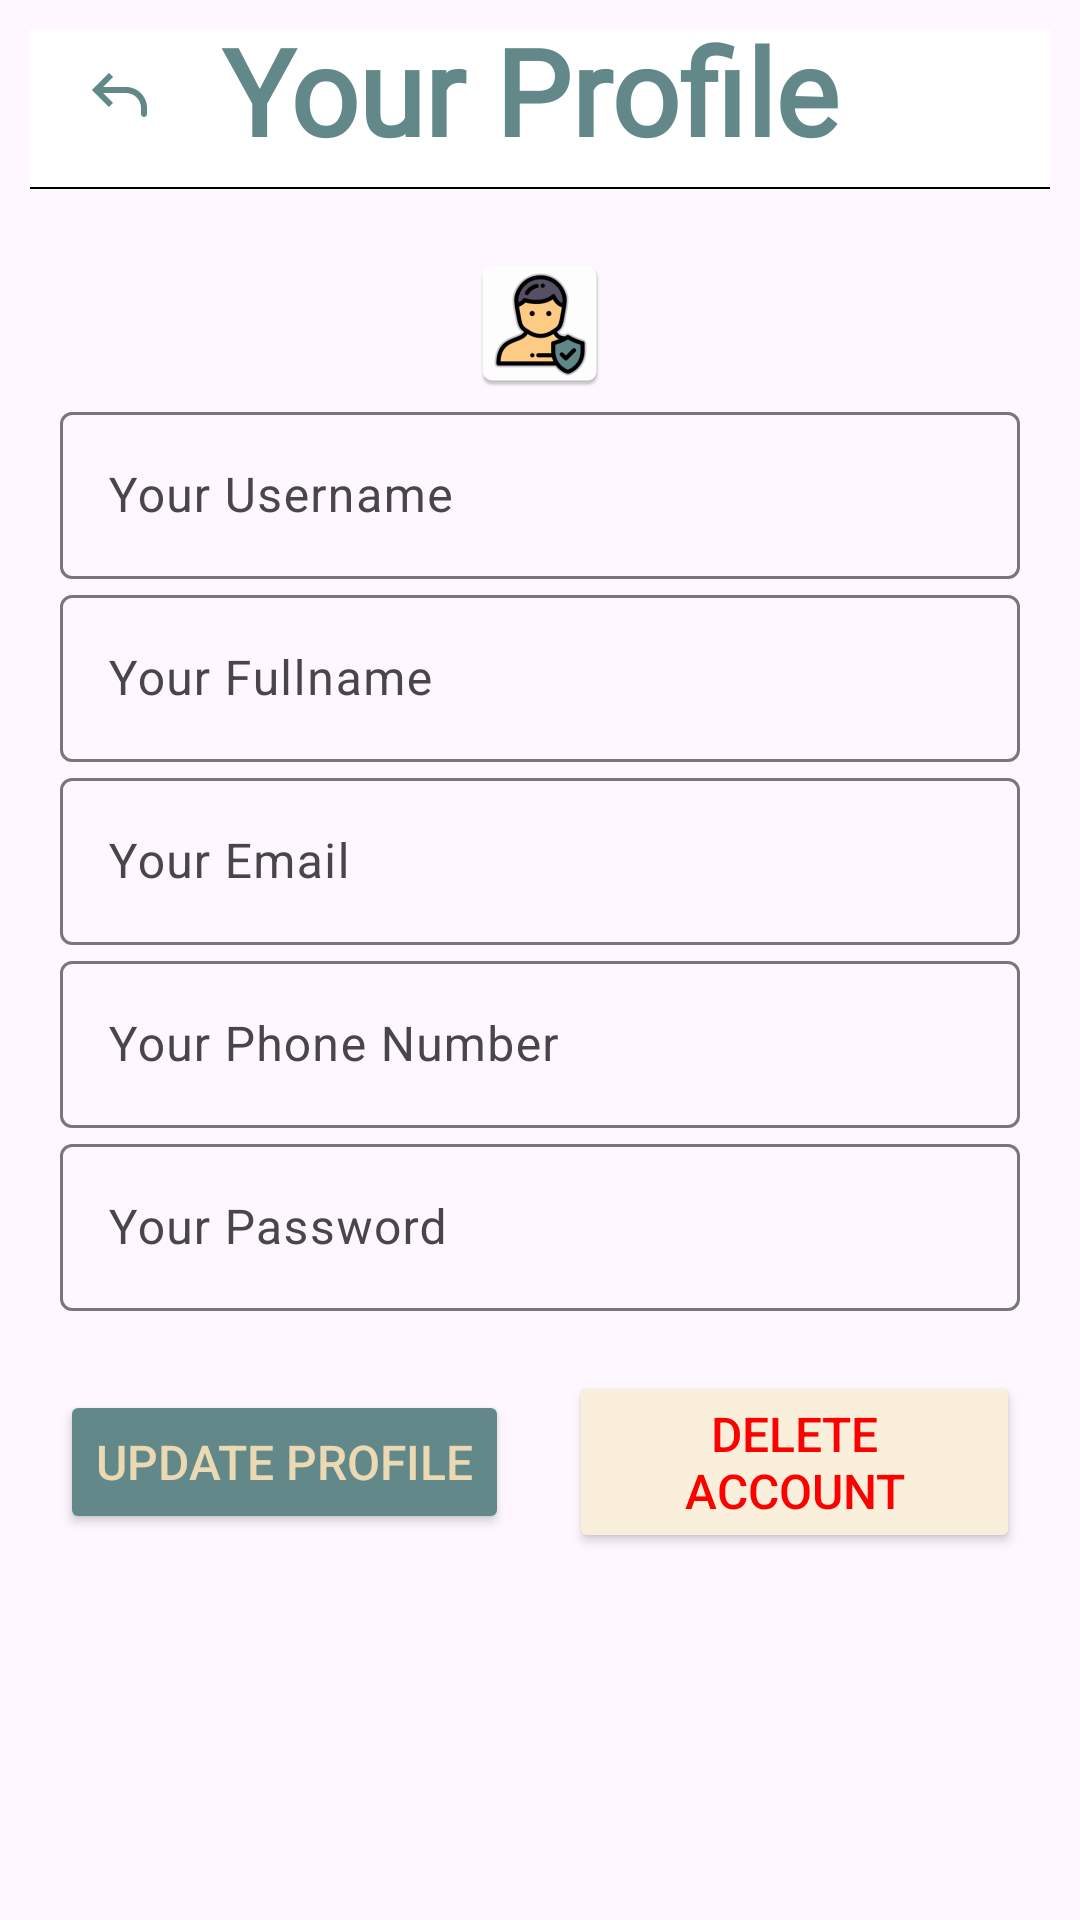

Named icons in this screenshot (1080x1920) and their centers, [x,y]:
back: [119,95]
